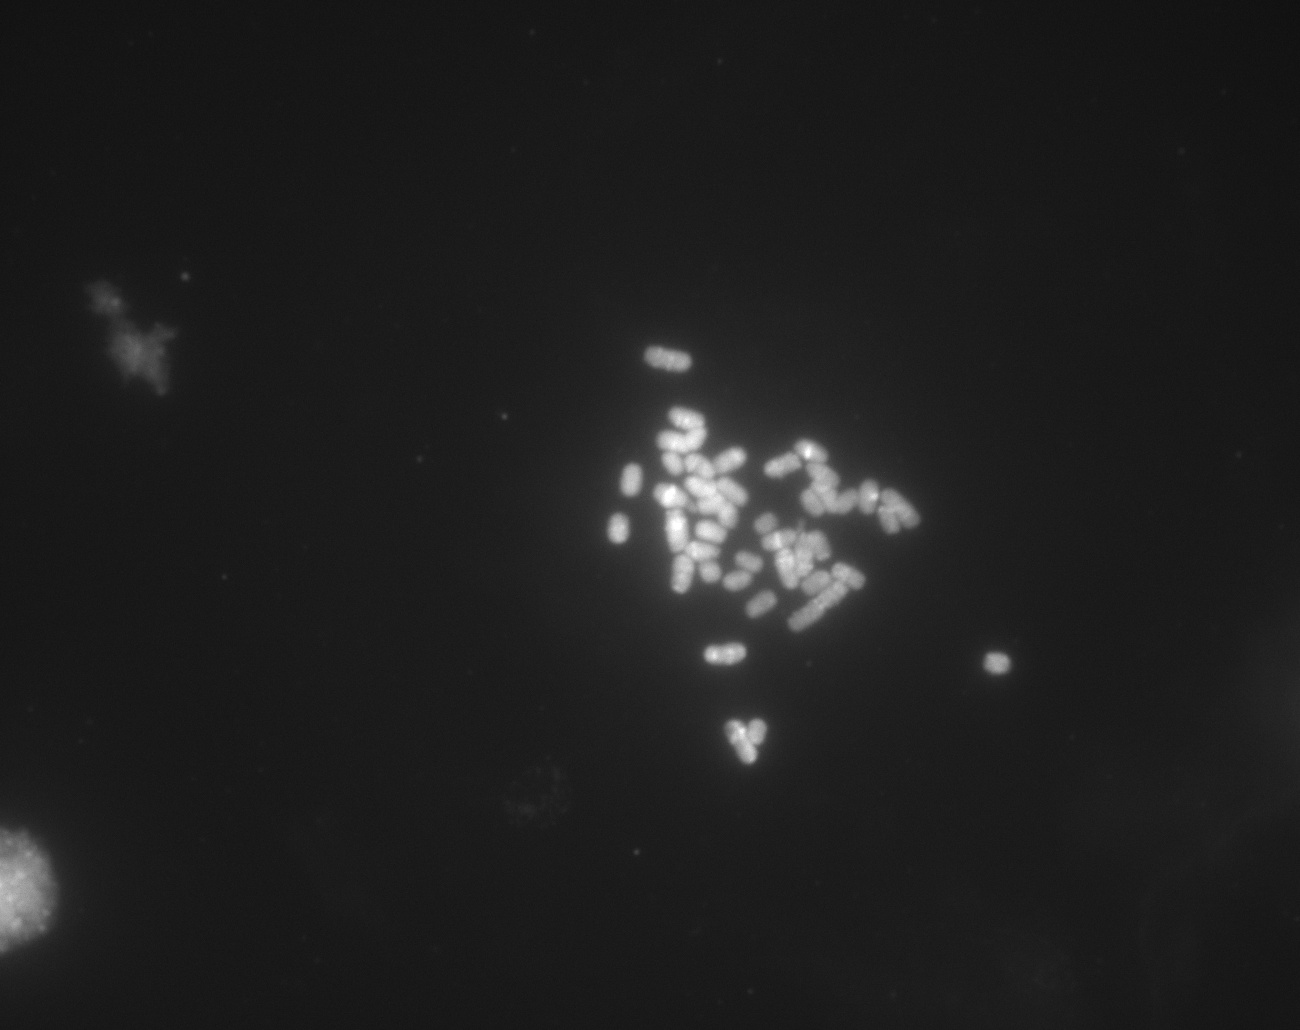Chromosomes: (556, 263, 1075, 800)
Others: (17, 205, 250, 472)
